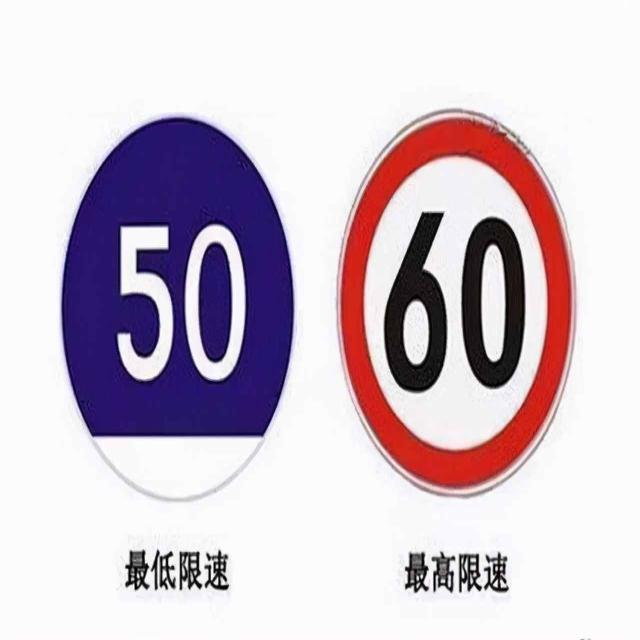speed limit 50: (59, 116, 294, 501)
speed limit 60: (336, 108, 577, 496)
